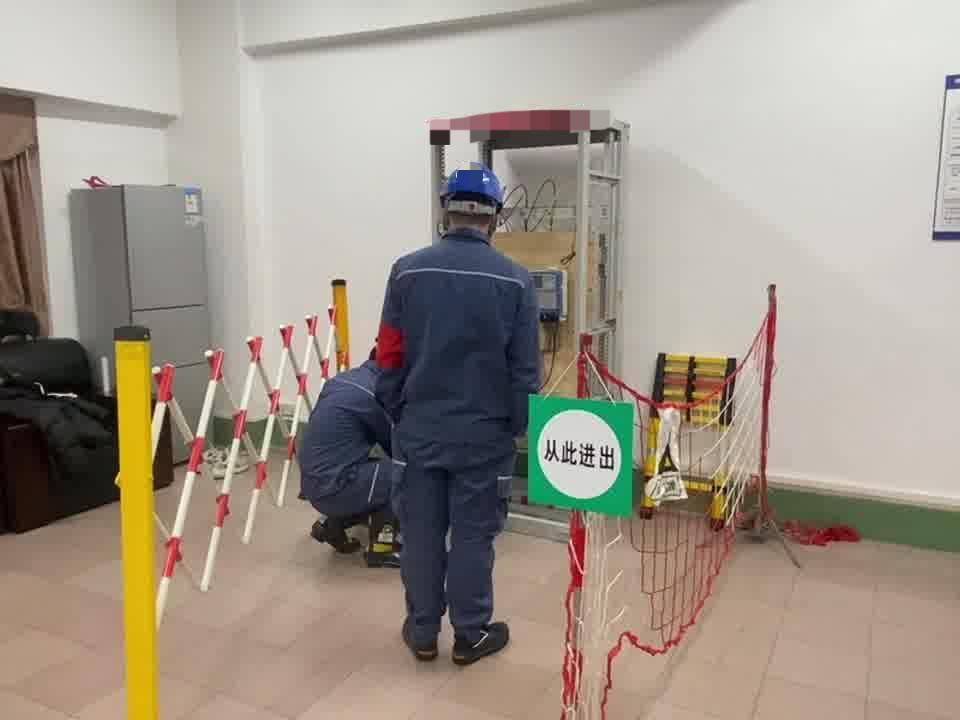halt: (441, 163, 509, 239)
